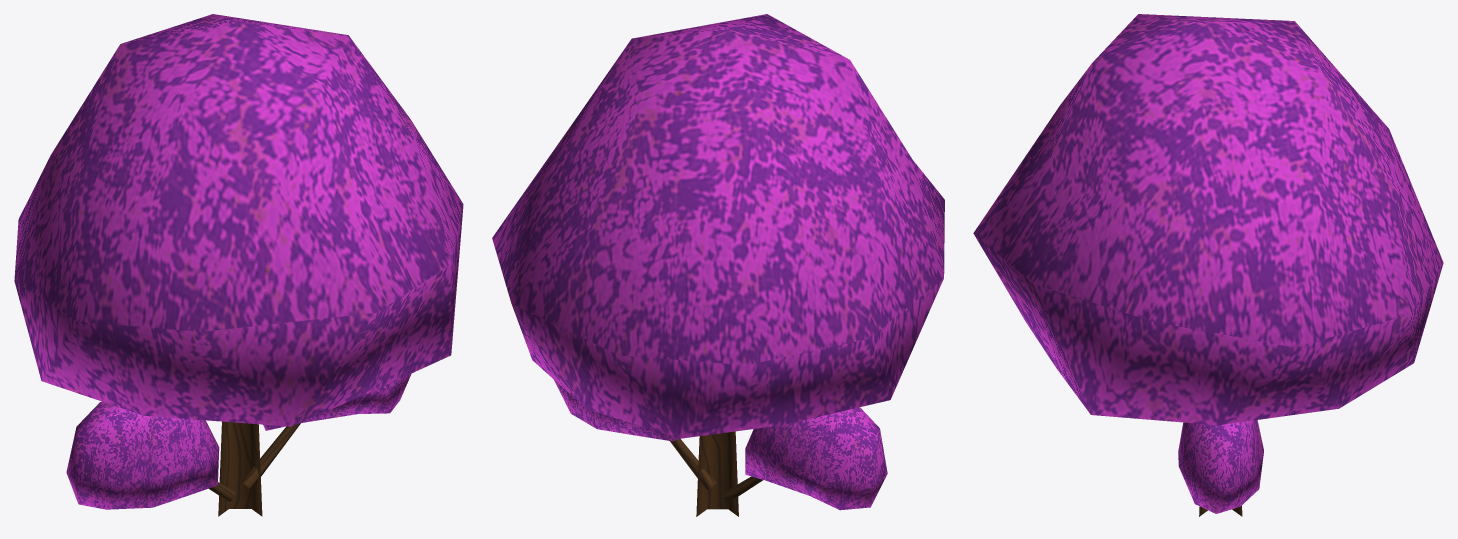
The model's file is Arbol1.fbx.
The picture shows the model from 3 angles, left to right: view 1: azimuth 30°, elevation 25°; view 2: azimuth 150°, elevation 25°; view 3: azimuth 270°, elevation 25°; orthographic projection. The views are drawn at different scales.
Visible parts, largest first — view 1: Icosphere.005; view 2: Icosphere.005; view 3: Icosphere.005.
Part boxes in pixels (x1,y1,x2,y2): Icosphere.005: (14, 14, 463, 516); Icosphere.005: (492, 14, 944, 516); Icosphere.005: (973, 14, 1443, 516).
Bounding box in the file's own units: 749 × 905 × 786.
